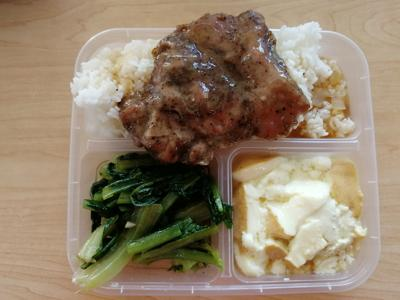df: (237, 153, 372, 279)
ymc: (81, 150, 227, 279)
